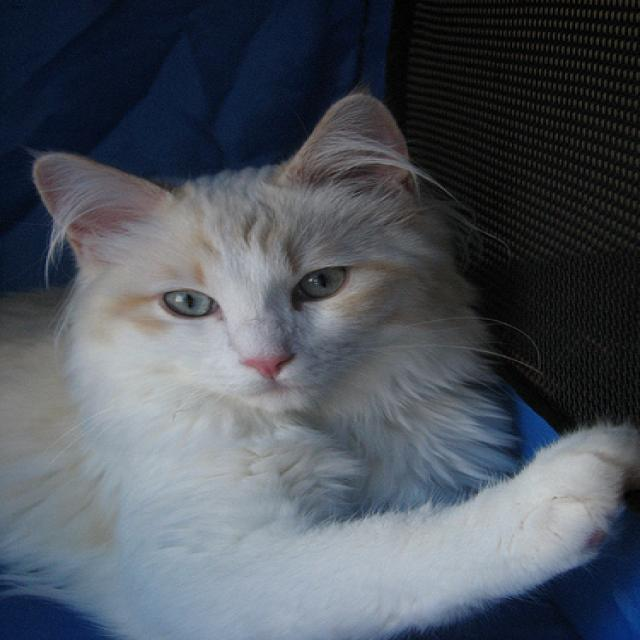Ragdoll: (24, 75, 464, 420)
